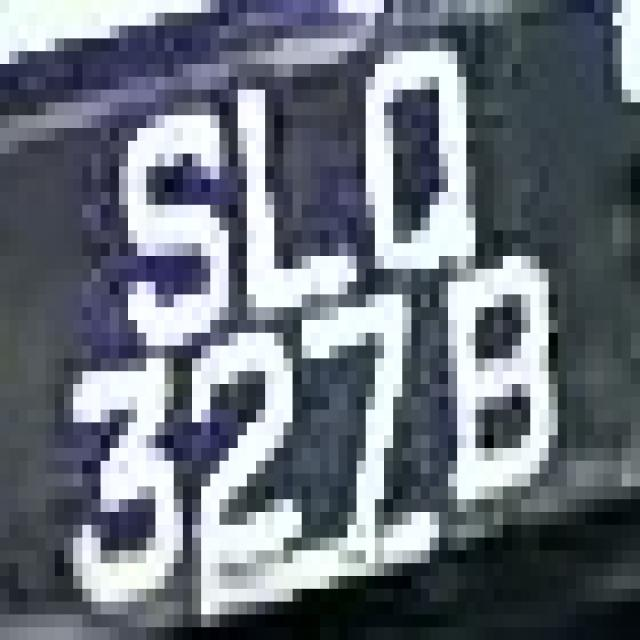2: (183, 320, 329, 563)
3: (36, 346, 174, 627)
7: (283, 282, 430, 588)
B: (430, 243, 594, 512)
L: (201, 25, 338, 282)
Q: (338, 25, 485, 282)
S: (91, 102, 210, 346)
